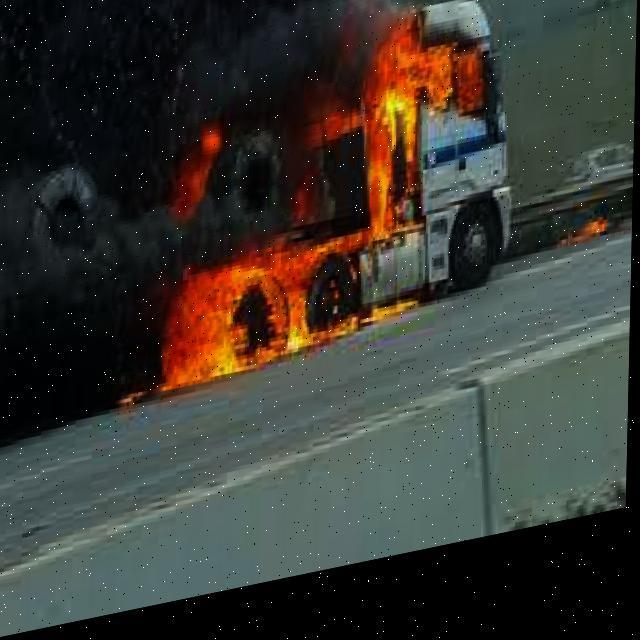Fire: (157, 23, 461, 411)
